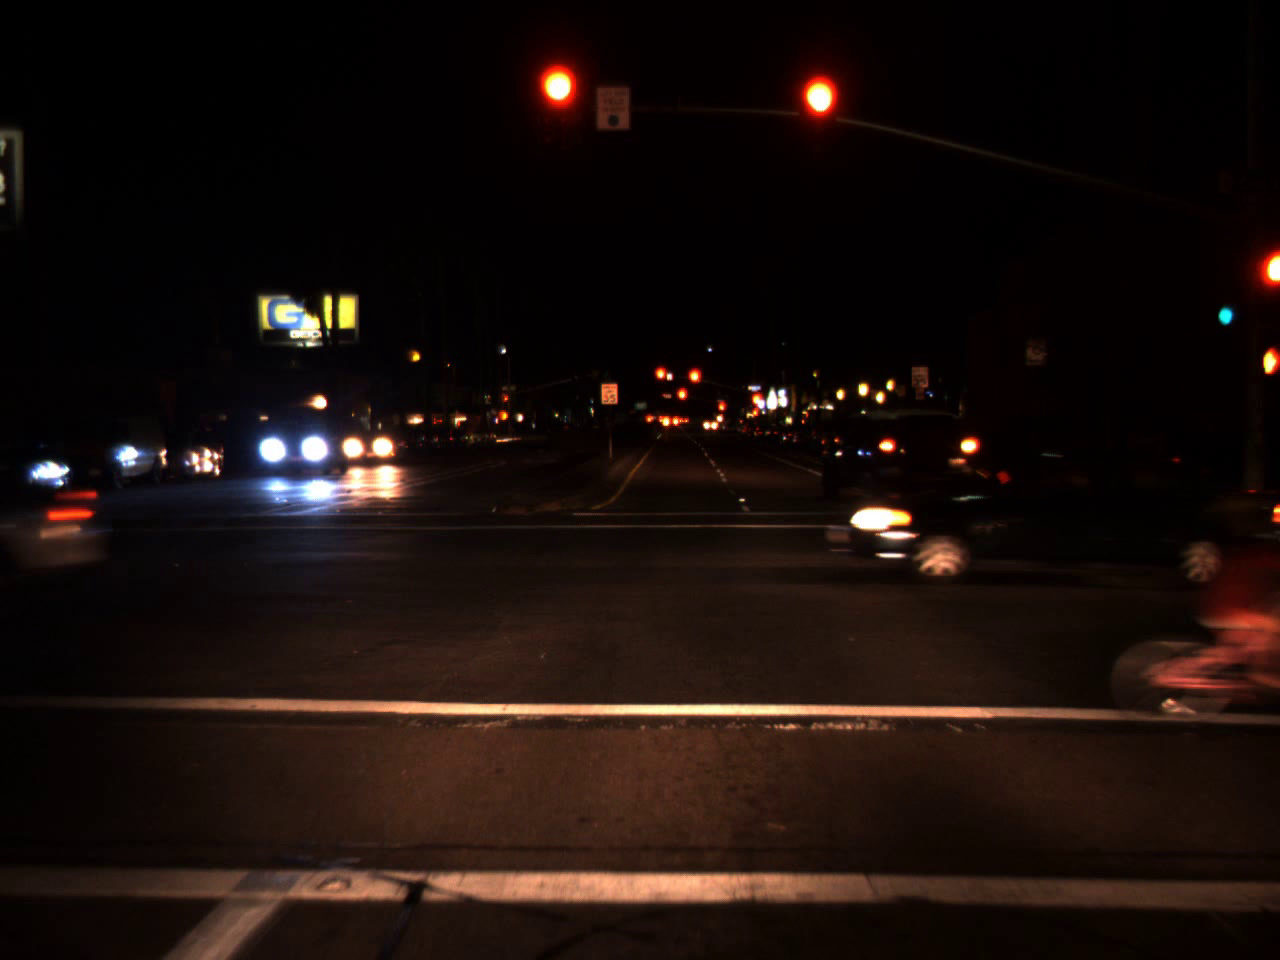stop: (538, 65, 577, 143), (800, 77, 836, 155), (686, 367, 702, 399), (653, 365, 668, 392), (675, 386, 688, 415), (750, 391, 763, 415), (717, 400, 726, 421), (503, 395, 509, 405)
